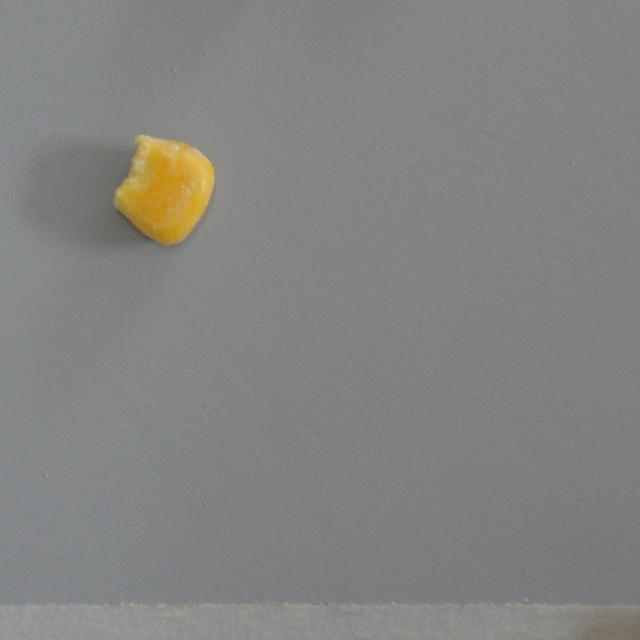pelicula: (111, 132, 216, 248)
